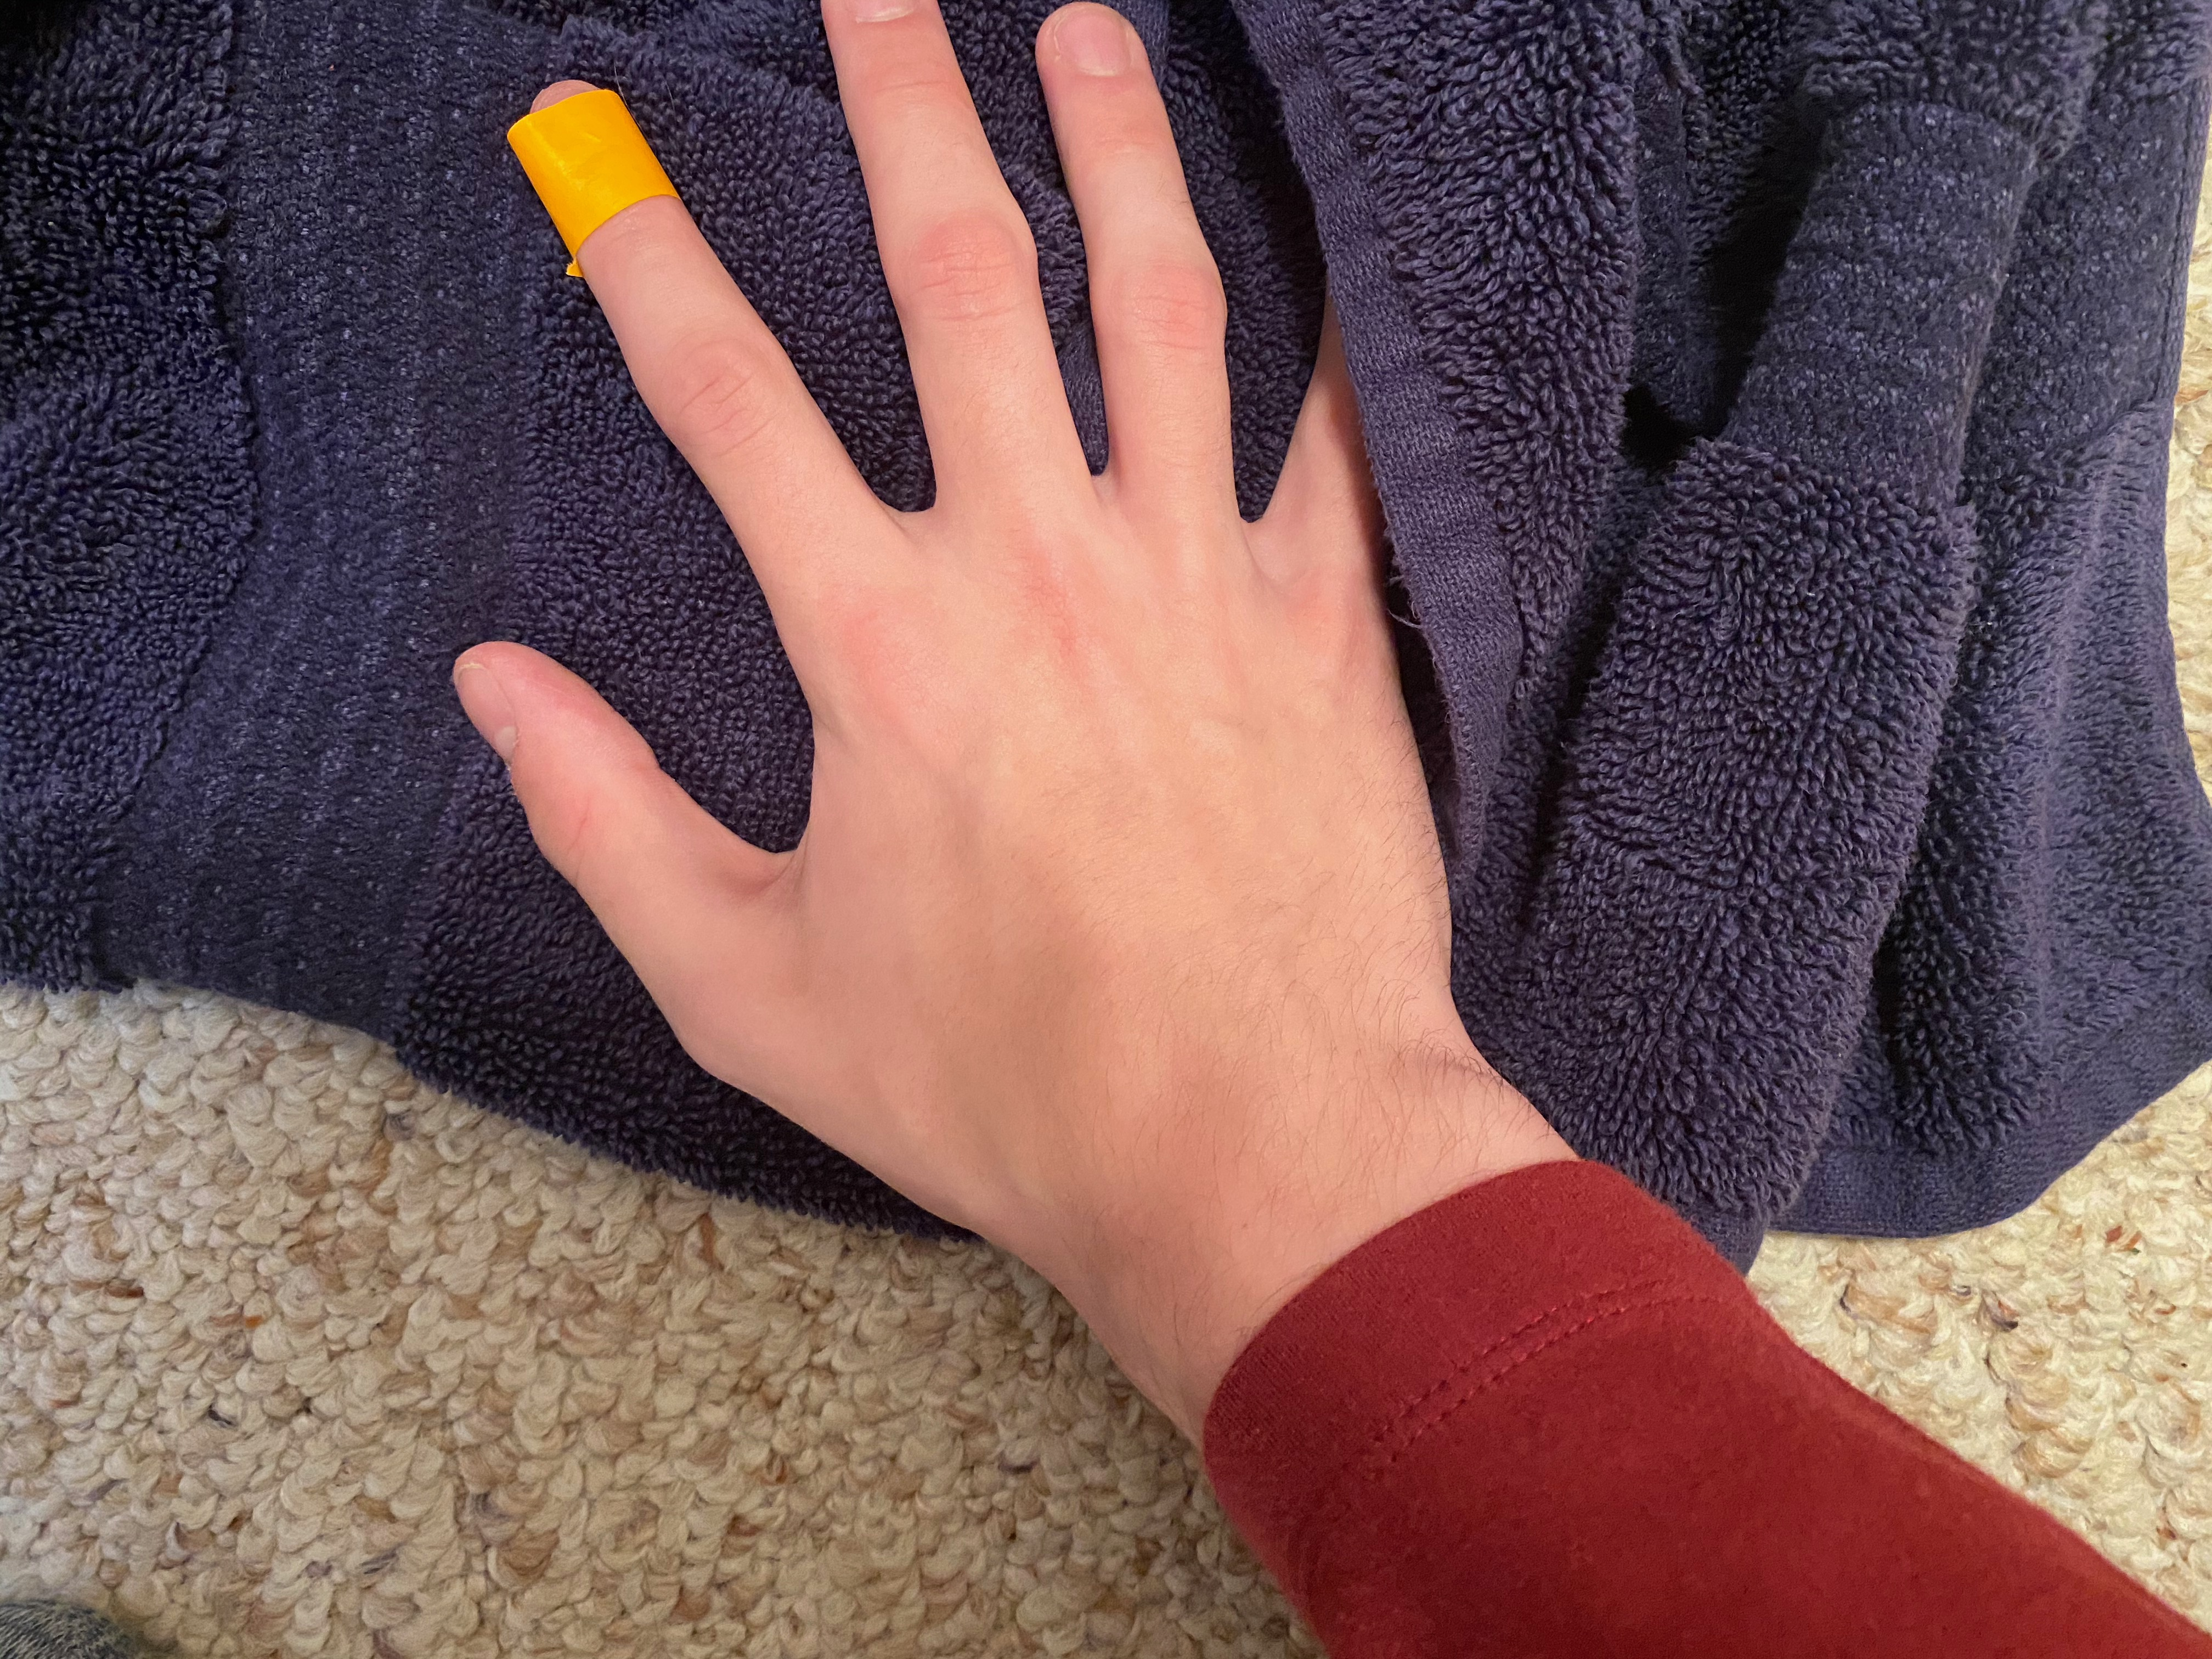fingertip: (496, 70, 766, 286)
